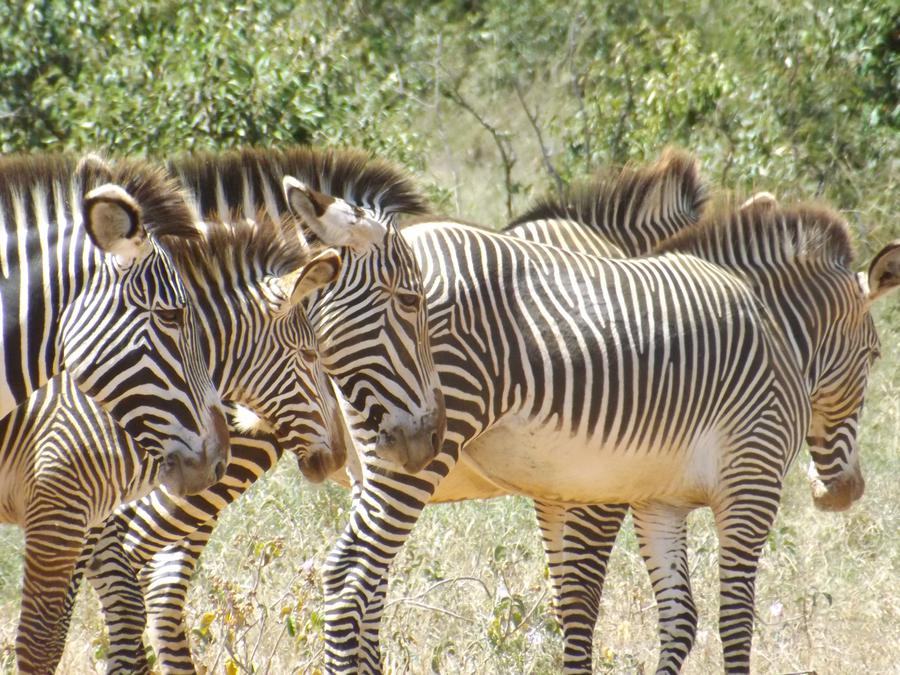zebra_grevys: (414, 215, 789, 502)
